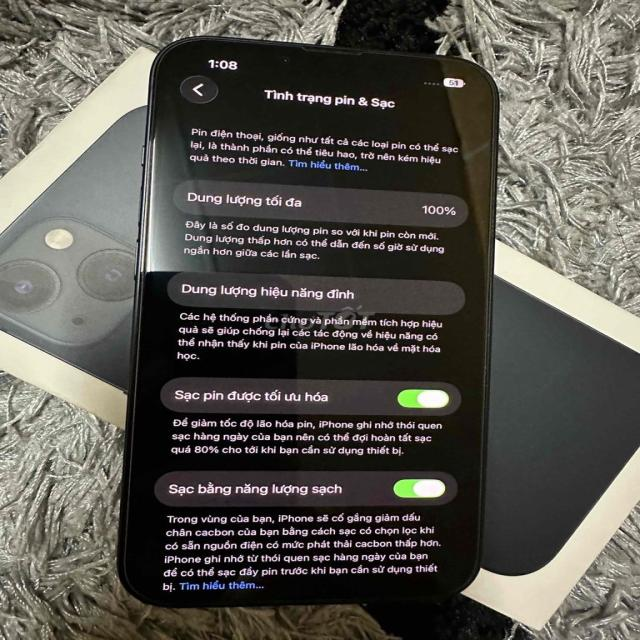gen_12_13: (120, 33, 485, 608)
